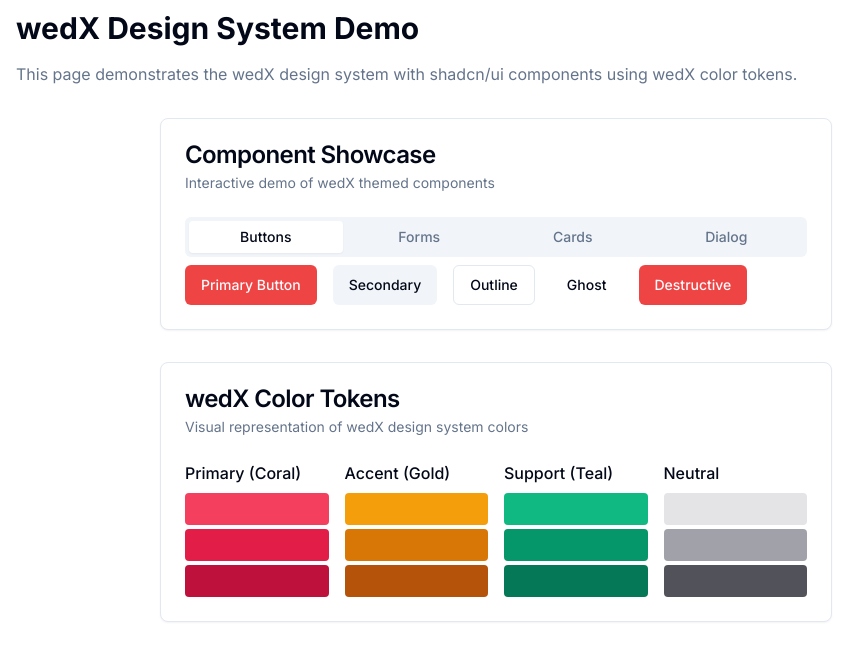
it: Design System Demo Page › renders form input with proper styling
Click the tab "Forms" at (419, 237), box [342, 221, 496, 253]
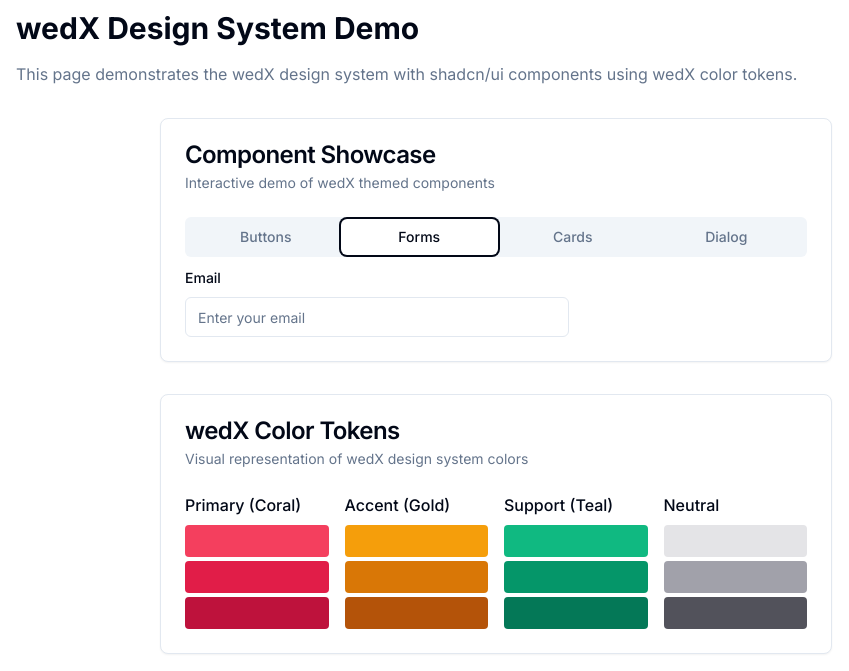
Expected: the field labelled "Email" is shown, [185, 297, 569, 337]
